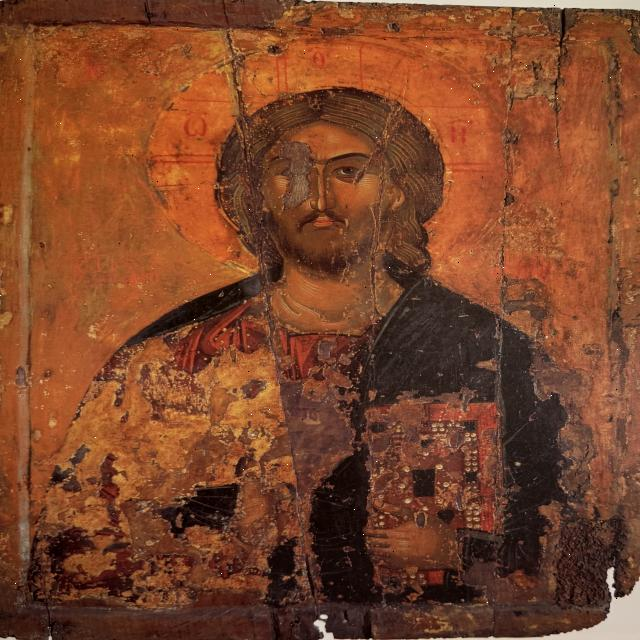aura: (154, 29, 520, 283)
book: (357, 399, 519, 595)
christ: (50, 35, 601, 609)
